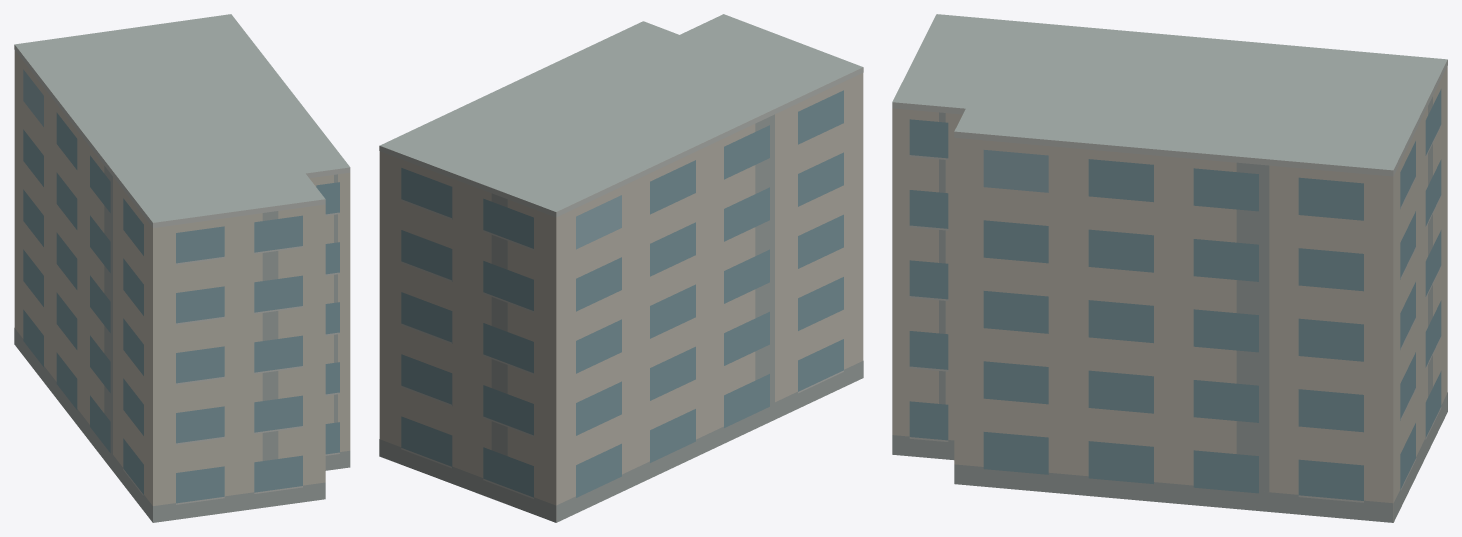
The model's file is survey-upis-32551541.glb.
The picture shows the model from 3 angles, left to right: view 1: azimuth 30°, elevation 25°; view 2: azimuth 150°, elevation 25°; view 3: azimuth 270°, elevation 25°; orthographic projection. The views are drawn at different scales.
Visible parts, largest first — view 1: survey-upis-32551541.tmp; view 2: survey-upis-32551541.tmp; view 3: survey-upis-32551541.tmp.
Boxes of the visible parts, <box> form: survey-upis-32551541.tmp: <box>14,14,350,522</box>; survey-upis-32551541.tmp: <box>379,14,863,522</box>; survey-upis-32551541.tmp: <box>892,14,1447,522</box>.
Bounding box in the file's own units: 13.33 × 14 × 20.01.
